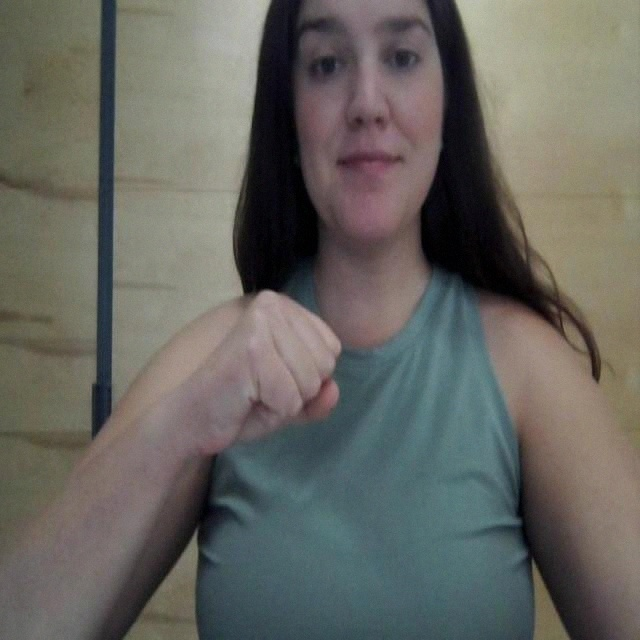Rock: (148, 265, 367, 480)
